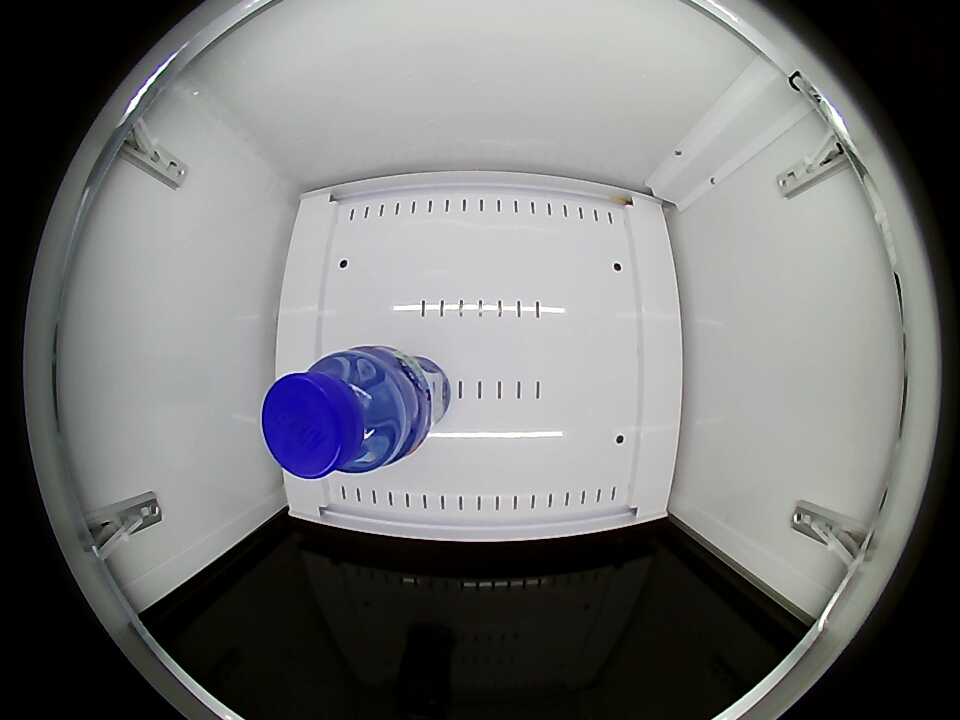maidong: (261, 348, 415, 479)
